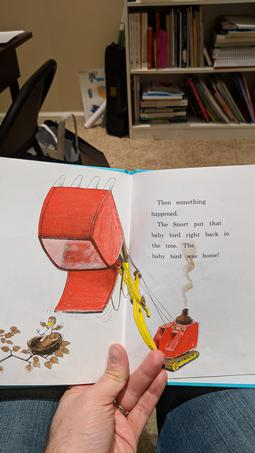text block: (139, 190, 237, 264)
